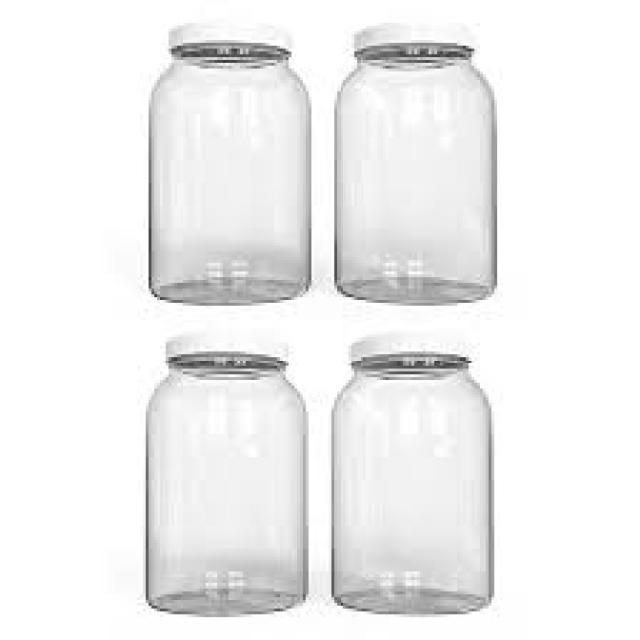glass: (140, 43, 311, 300), (140, 354, 306, 617), (329, 43, 494, 303), (332, 355, 495, 615)
plastic: (348, 328, 463, 363), (166, 20, 286, 51), (166, 326, 283, 357), (352, 20, 469, 43)
